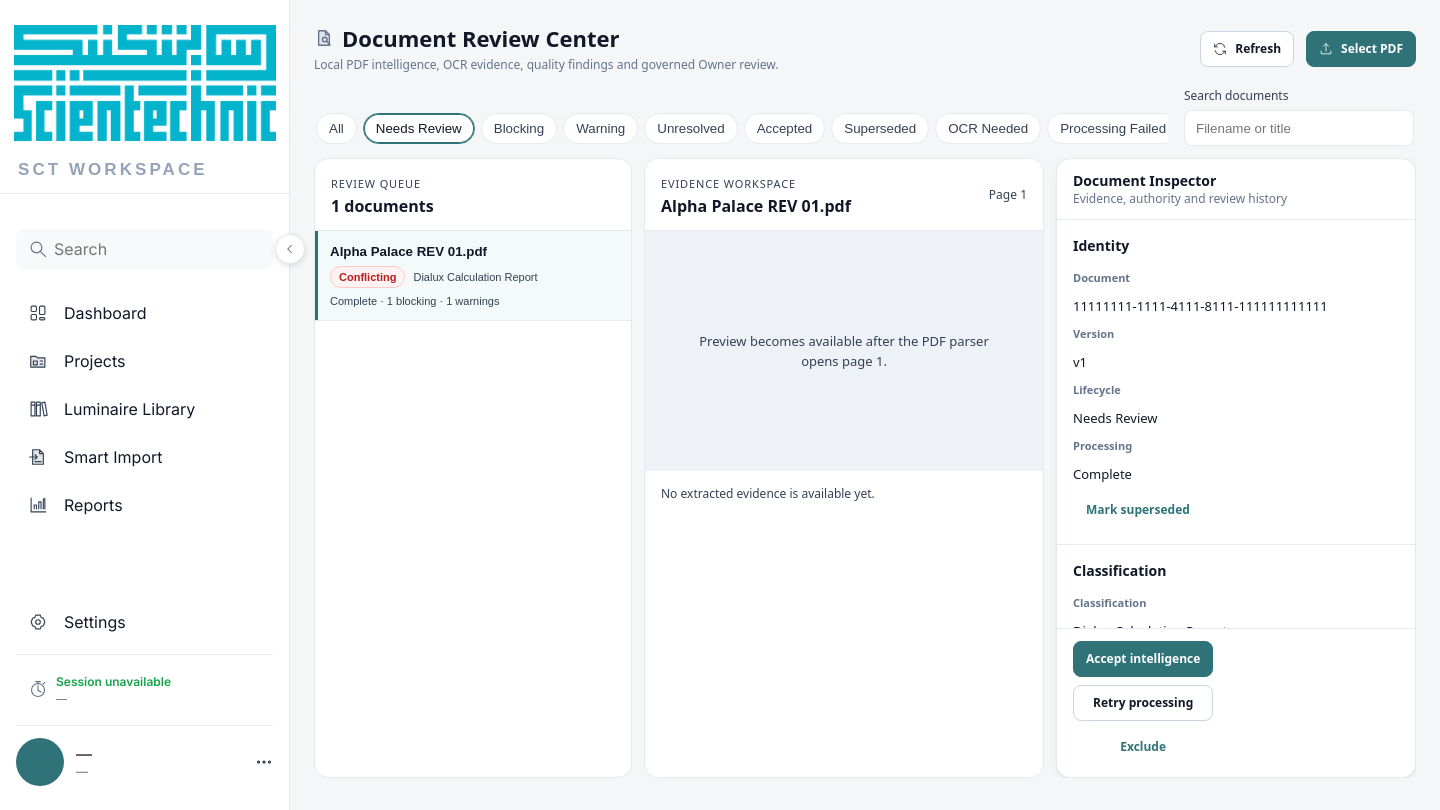
it: Document Review Center › shows a stale/error state without dropping the existing evidence workspace
Click the button "Accept intelligence" at (1143, 659), box [1073, 641, 1213, 677]
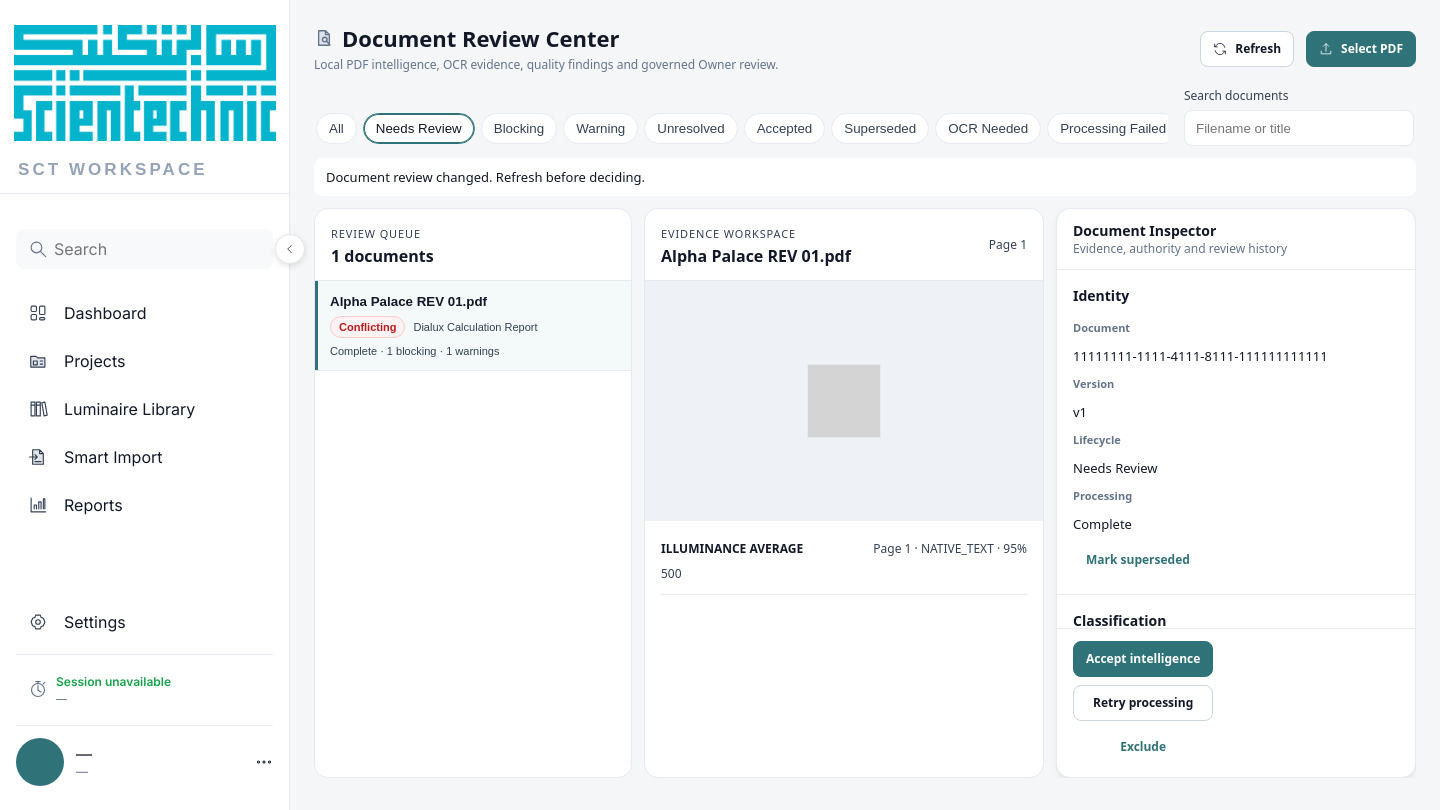
Expected: the element labelled "Evidence" is shown, [644, 208, 1044, 778]
Expected: the message shows "Refresh before deciding", [326, 168, 645, 186]
